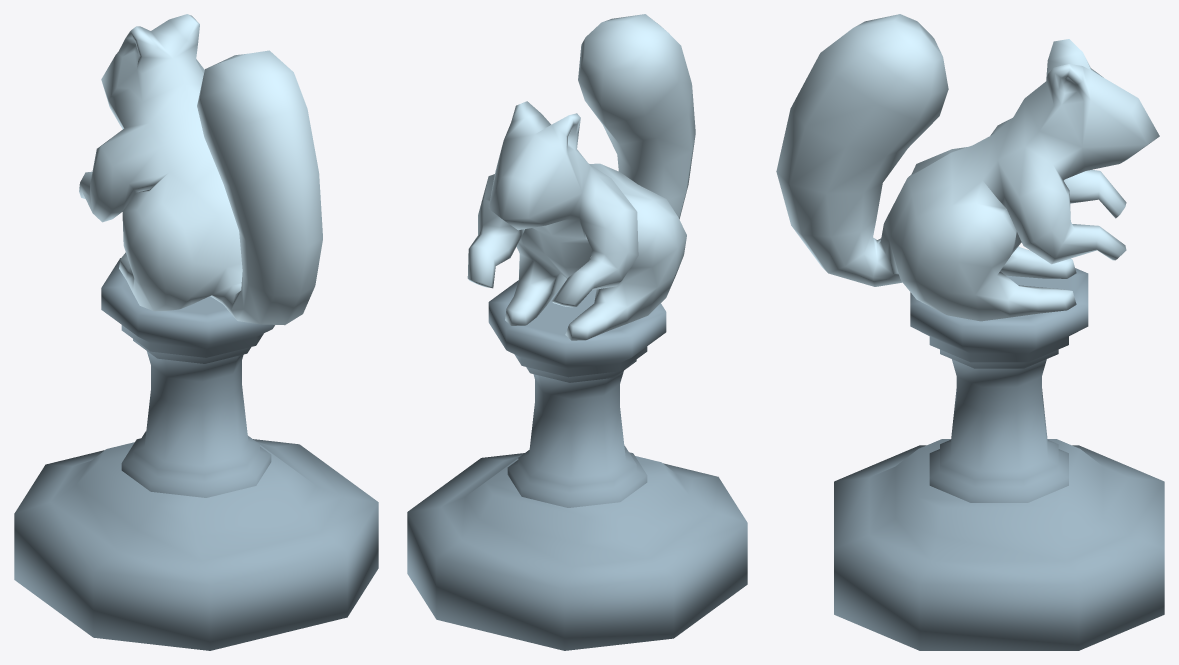
The model's file is Squirrel_Statue.fbx.
3 renders of one model, left to right at view 1: azimuth 30°, elevation 25°; view 2: azimuth 150°, elevation 25°; view 3: azimuth 270°, elevation 25°, orthographic. The views are drawn at different scales.
Parts seen in each view (by area): view 1: Cube.007; view 2: Cube.007; view 3: Cube.007.
Boxes of the visible parts, x1=… form: Cube.007: x1=14, y1=14, x2=378, y2=650; Cube.007: x1=407, y1=14, x2=747, y2=650; Cube.007: x1=776, y1=14, x2=1164, y2=650.
Bounding box in the file's own units: 553 × 1034 × 649.
